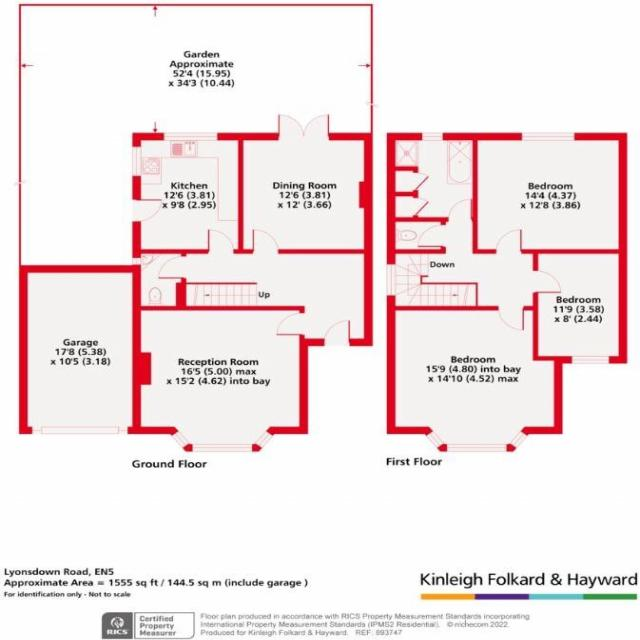DOOR: (131, 198, 163, 223), (157, 254, 187, 280), (323, 319, 351, 346), (251, 228, 280, 254), (532, 269, 562, 294), (275, 311, 305, 336), (497, 305, 525, 331), (417, 223, 446, 248), (207, 228, 234, 254), (495, 229, 523, 254), (447, 198, 473, 222)
DOUBLE DOOR: (274, 107, 336, 142)
ROOM: (386, 305, 563, 453), (132, 305, 309, 453), (237, 113, 374, 254), (472, 132, 628, 254), (132, 132, 244, 254), (532, 249, 628, 364)
WINDOW: (446, 443, 508, 453), (191, 443, 253, 453), (520, 132, 576, 142), (162, 132, 219, 141), (169, 429, 192, 450), (424, 429, 446, 450), (508, 429, 529, 450), (254, 429, 275, 450), (570, 355, 611, 365), (385, 263, 396, 297), (131, 145, 142, 178), (421, 131, 444, 141), (132, 257, 142, 266)
